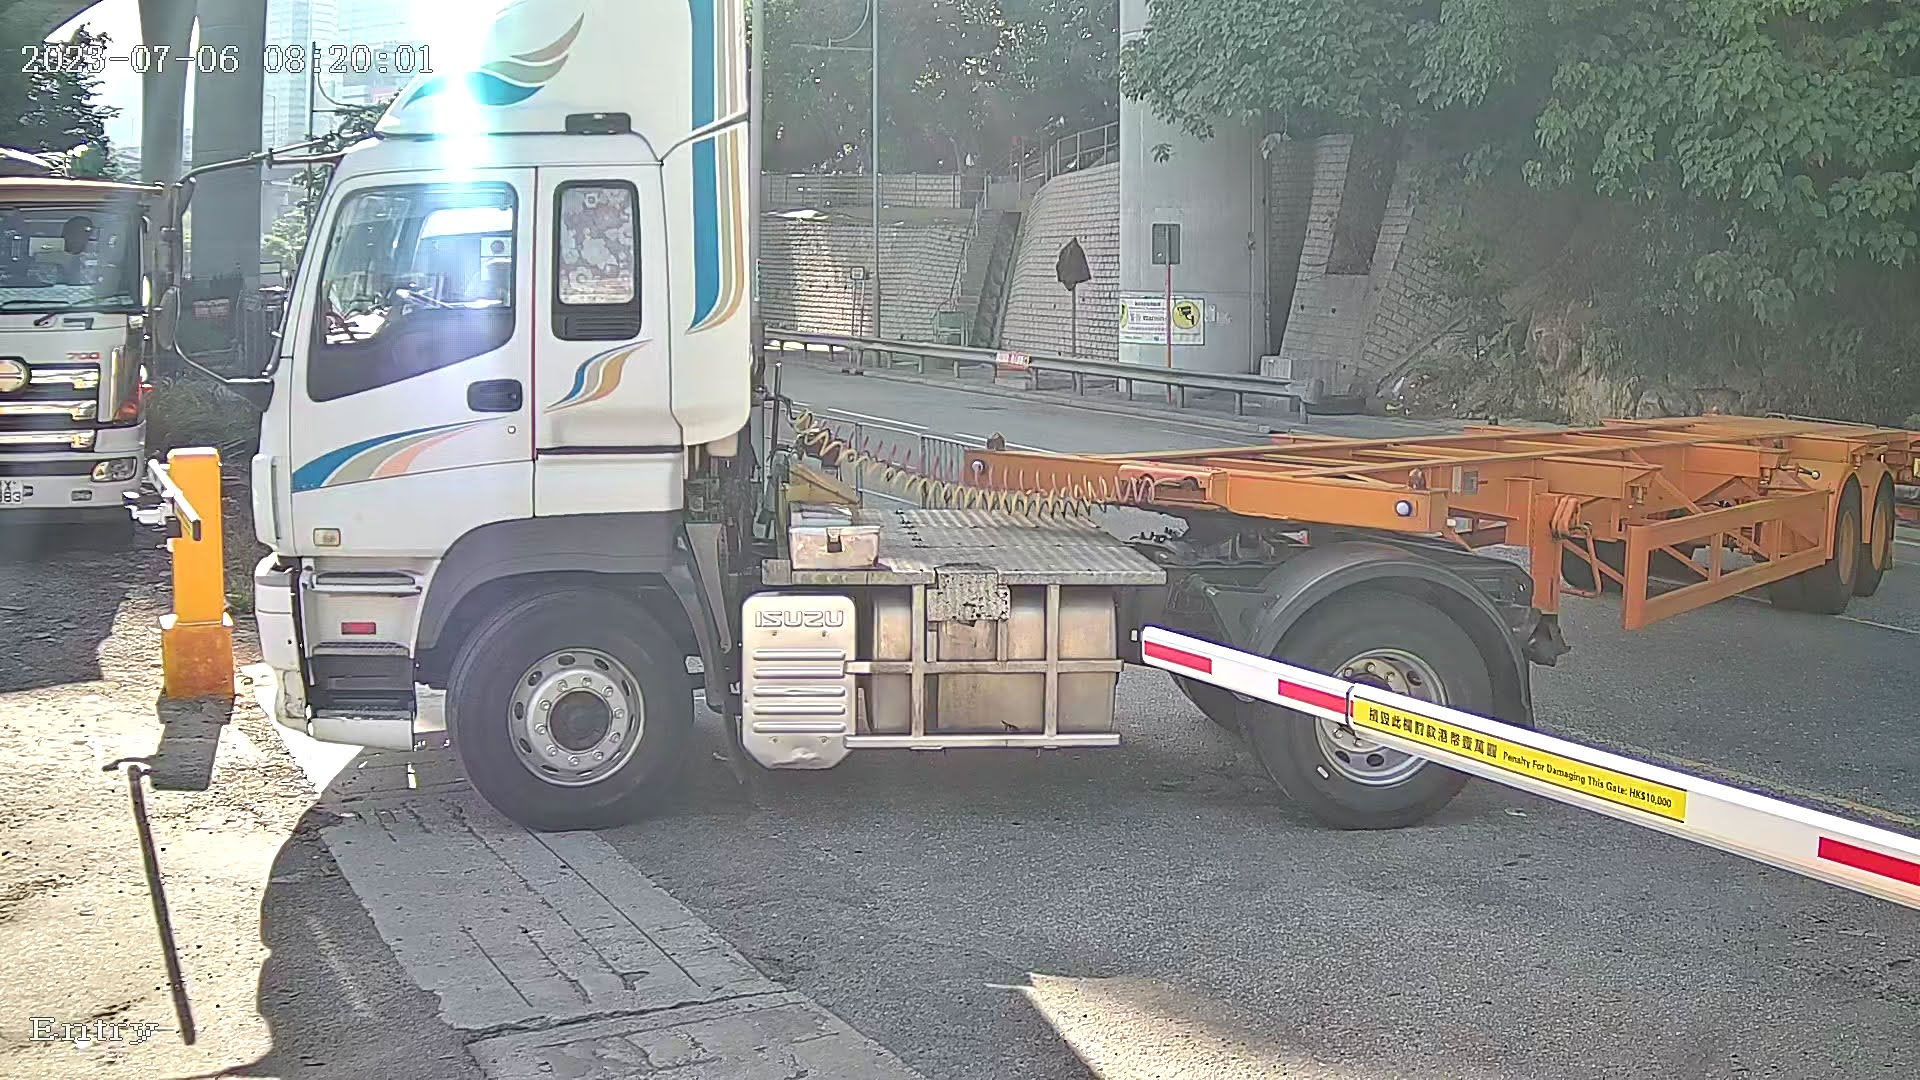tractor: (158, 1, 1586, 847)
